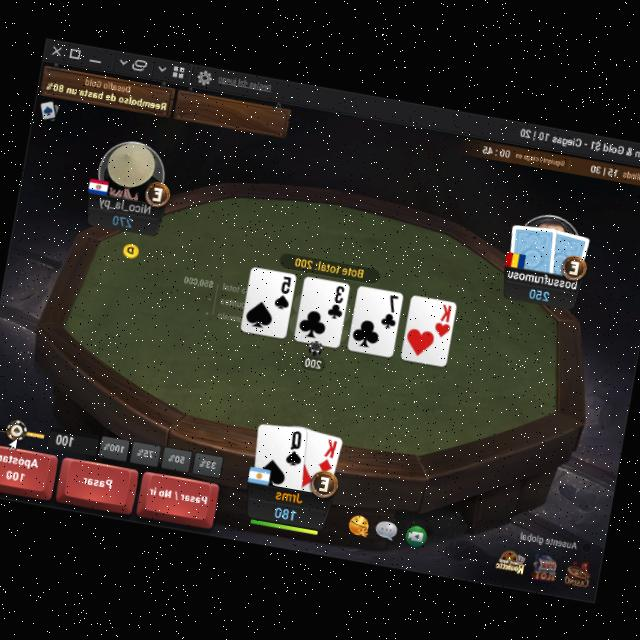3c: (326, 280, 348, 319)
5s: (273, 271, 296, 310), (272, 271, 295, 309)
7c: (378, 290, 402, 328)
Kd: (315, 432, 339, 472)
Kh: (432, 300, 456, 338)
Qs: (282, 425, 308, 466)
bet_text: (302, 351, 324, 368)
card_back: (504, 215, 561, 272), (543, 223, 593, 277)
dealer: (120, 240, 142, 260)
hero_active: (0, 436, 223, 528)
pot_text: (293, 254, 366, 276)
stack_text: (271, 502, 299, 524), (528, 285, 552, 303), (110, 212, 134, 228)
